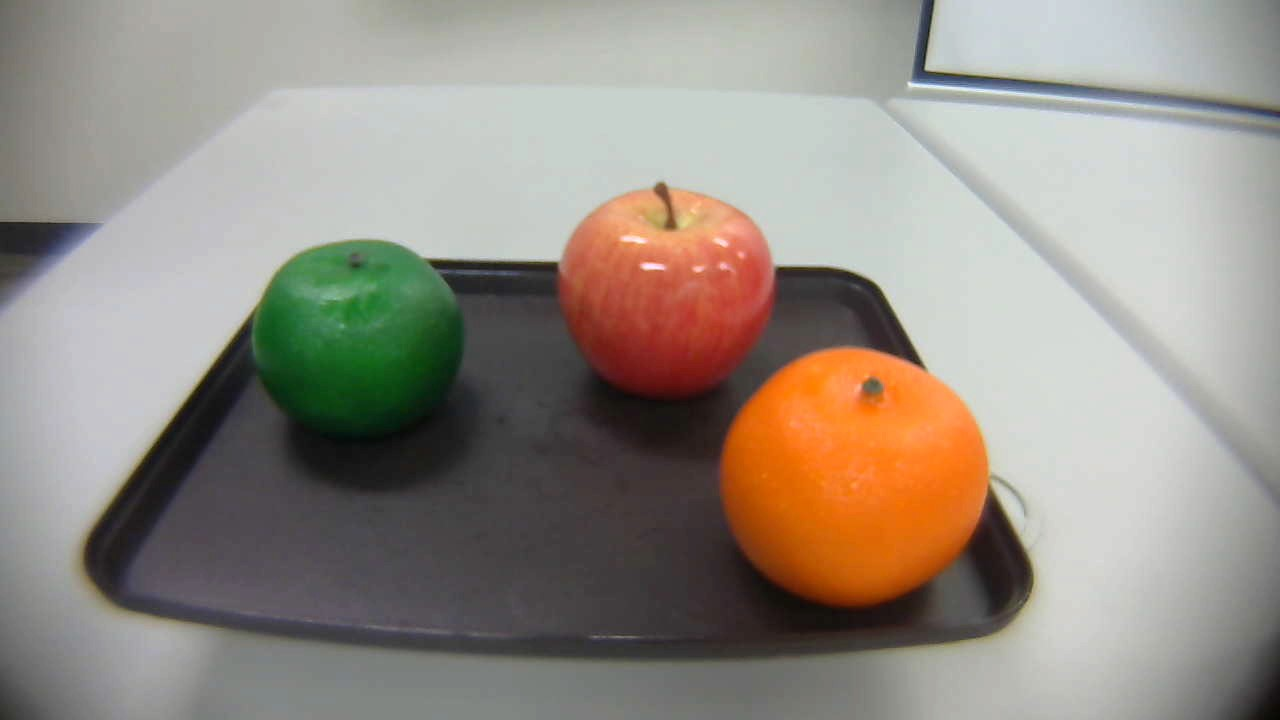green orange: (239, 234, 467, 442)
orange: (715, 345, 996, 611)
red apple: (554, 176, 773, 408)
